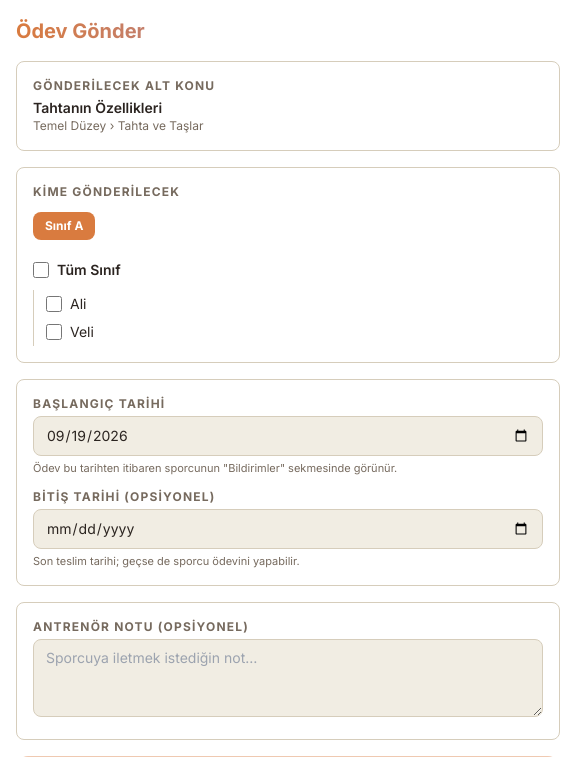
Scenario: başarılı gönderimden sonra onay ekranı gösterir
This screenshot has width=577, height=757.
Expected: the text "Ali" is shown, [46,295,86,312]
What coordinates should you click on to do the following:
click the checkbox labelled "Tüm Sınıf"
I would click on:
 (41, 270)
Its box is [33,262,49,278].
(page scrolled)
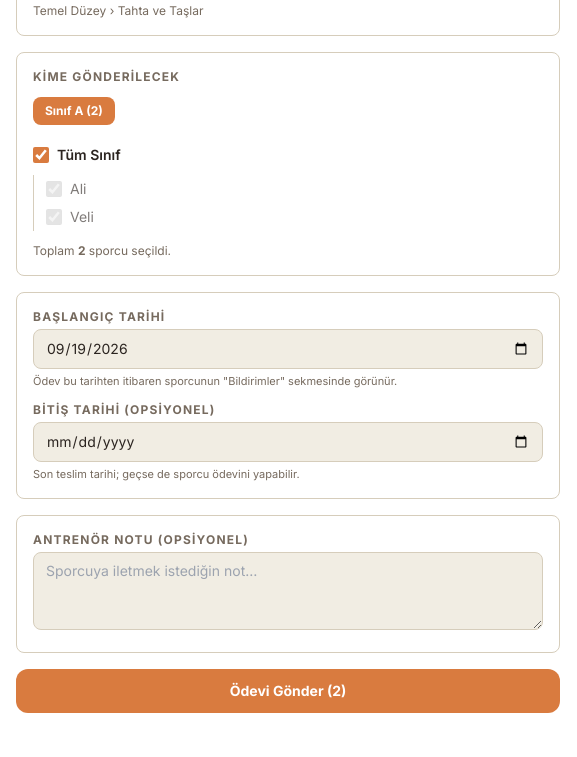
What coordinates should you click on to do the following:
click the button "Ödevi Gönder (2)"
I would click on:
 (288, 691)
Its box is [16,669,560,713].
(page scrolled)
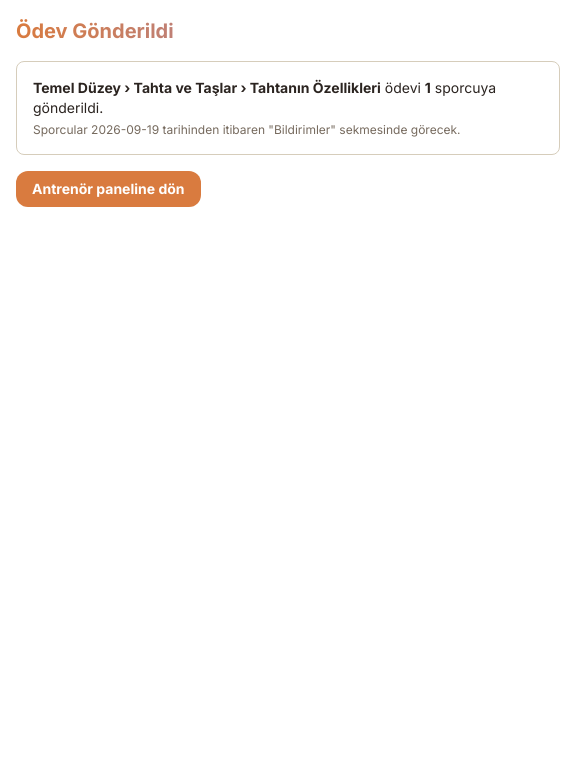
Expected: the heading "Ödev Gönderildi" is shown, [16,17,560,45]
